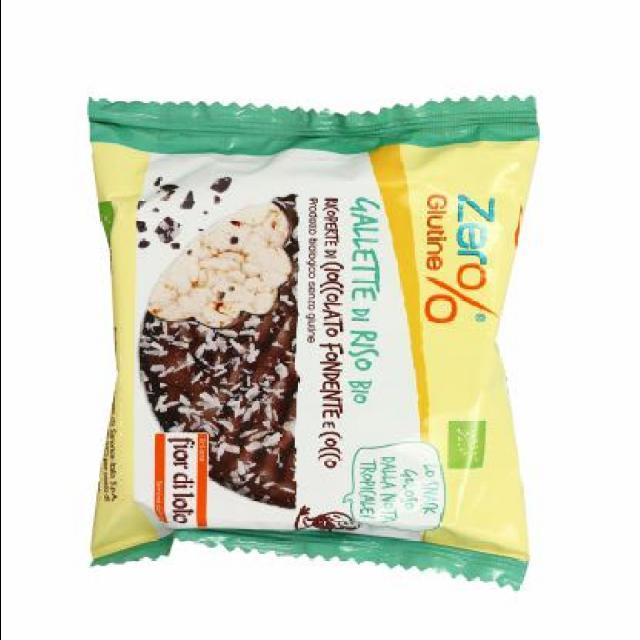Gallette di riso: (74, 88, 551, 594)
